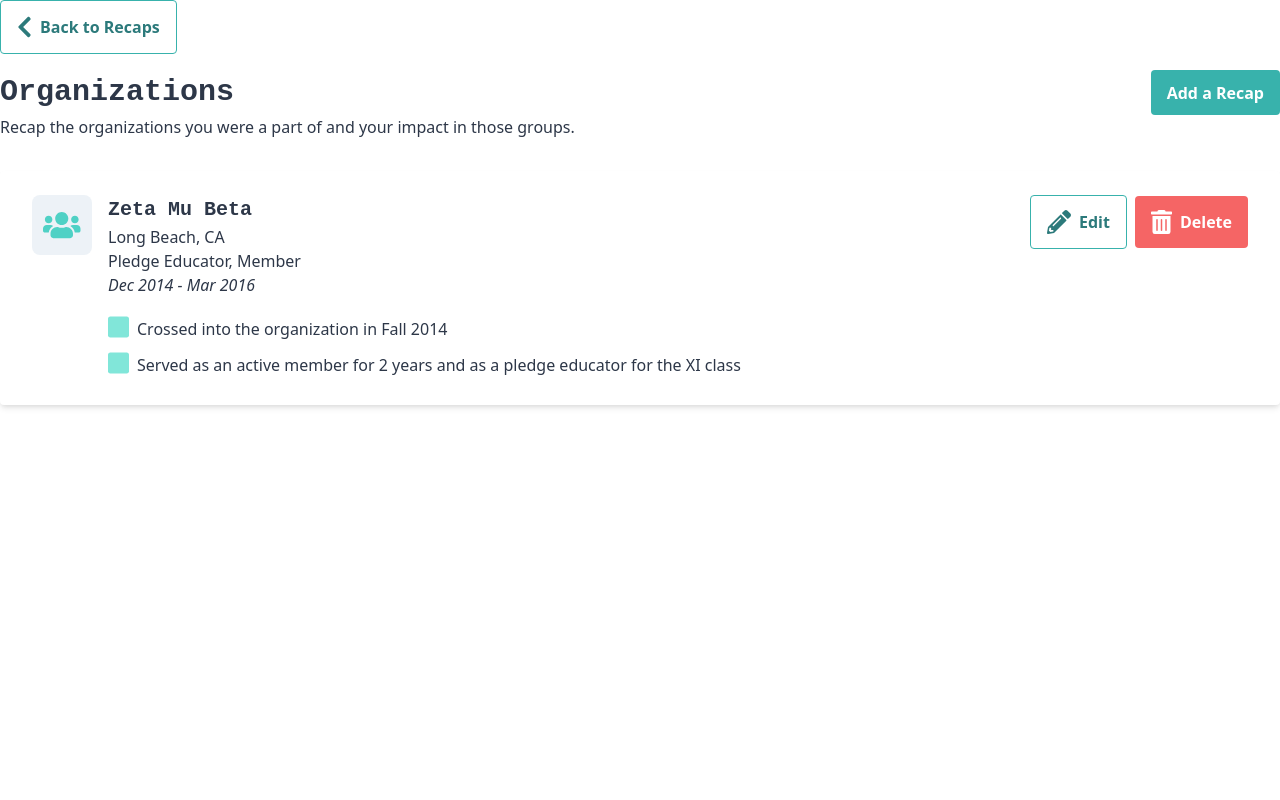
it: <OrganizationsLayout /> › should show the error alert after failing to delete a recap
Click the button "Delete".
click(1192, 222)  # box [1135,196,1248,248]
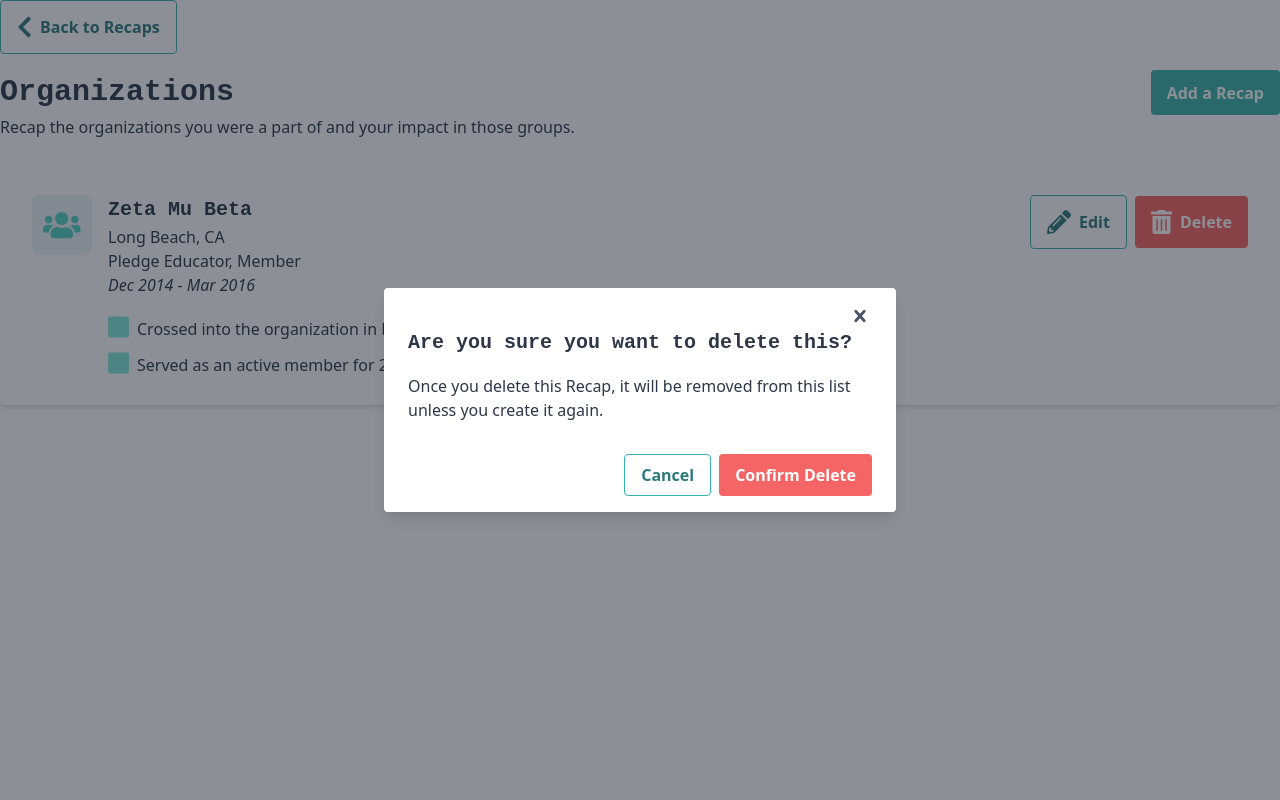
Now the heading "Are you sure you want to delete this?" is shown, box [408,328,872,358]
Click the button "Confirm Delete".
click(796, 475)  # box [719,454,872,496]
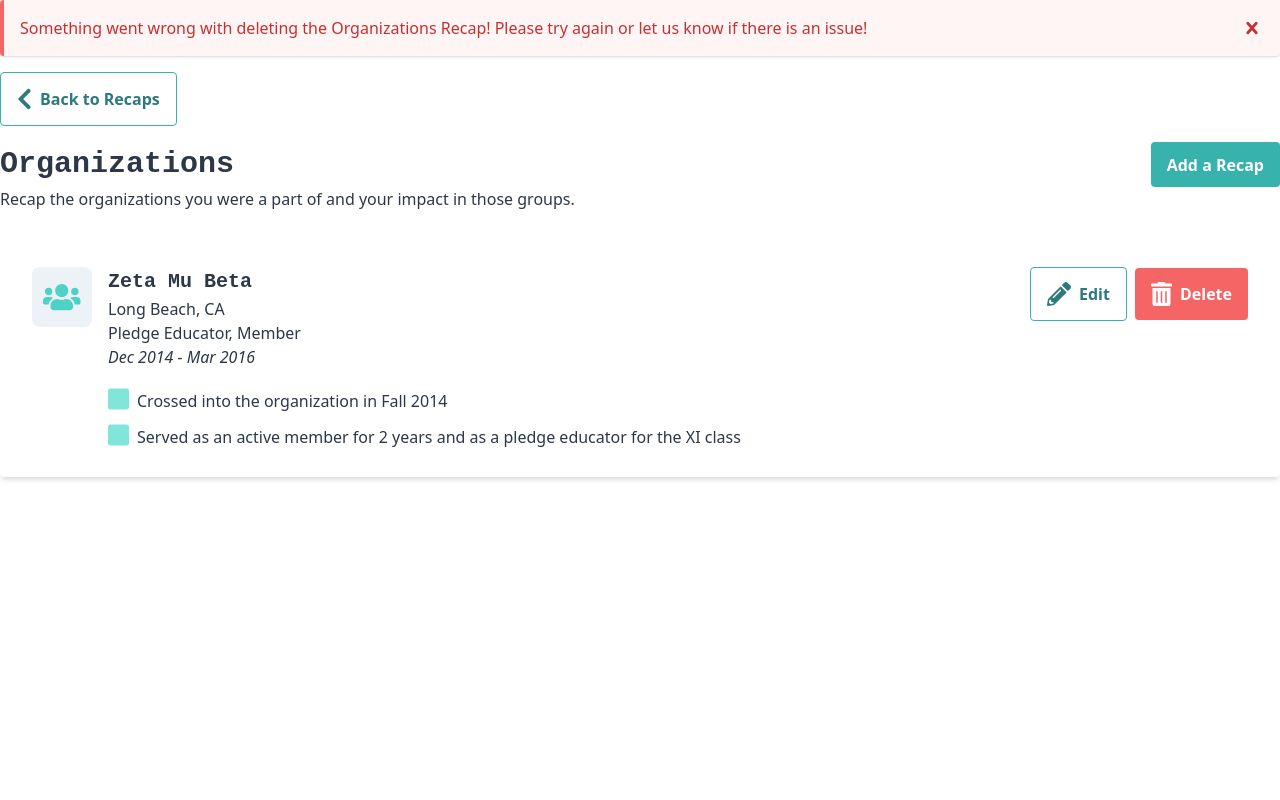
Now the heading "Are you sure you want to delete this?" is gone
Now the text "Something went wrong with deleting the Organizations Recap!" is shown, box [20,17,867,39]
